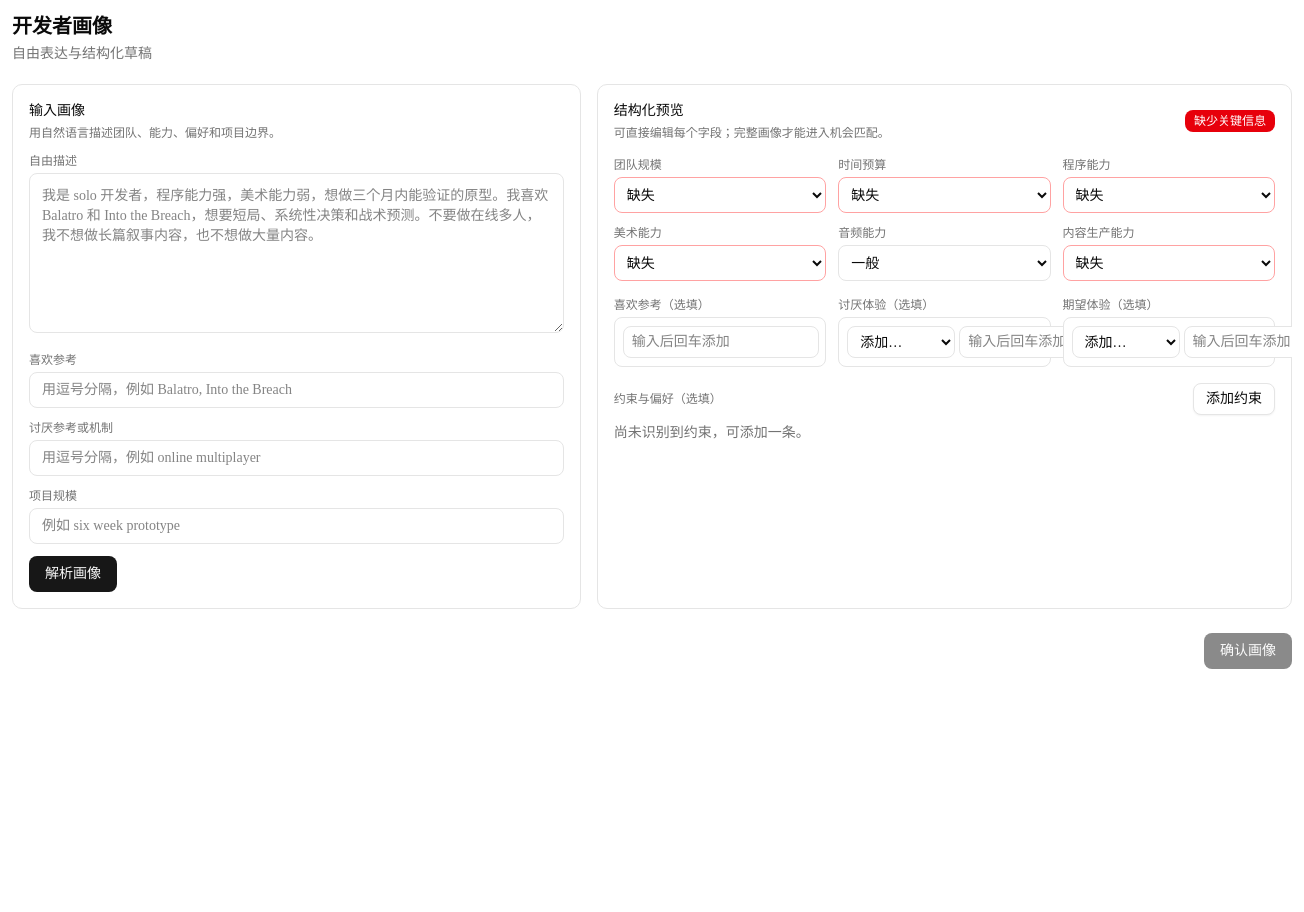
Test: ProfilePage › lets the user complete the profile by selecting fields, no free text
# Pick canonical values directly from the Chinese dropdowns.
Select "独立开发者（单人）" in the dropdown labelled "团队规模": [720, 195] box top-left (614, 177), bottom-right (826, 213)
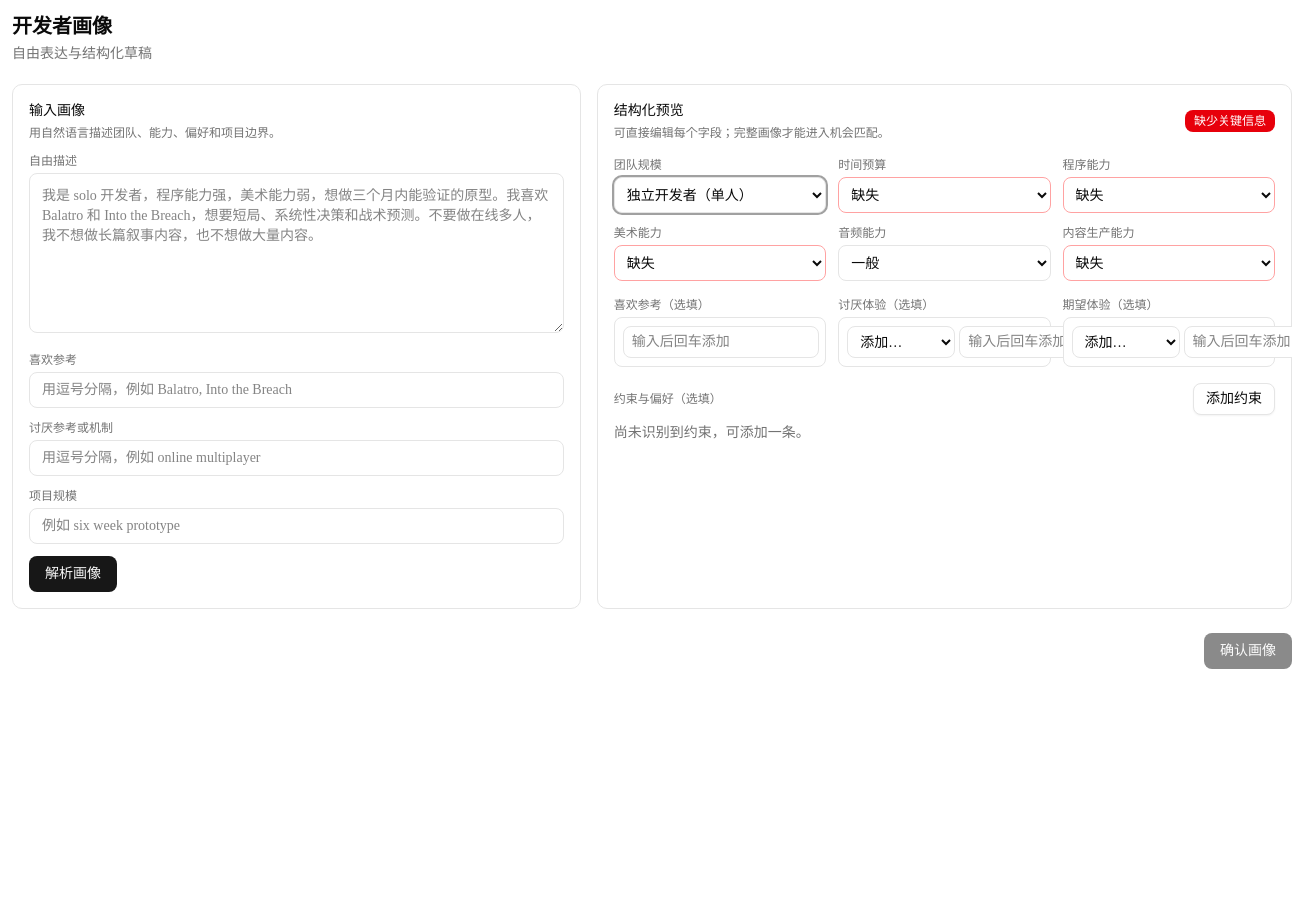
Select "三个月原型" in the dropdown labelled "时间预算": [944, 195] box top-left (838, 177), bottom-right (1051, 213)
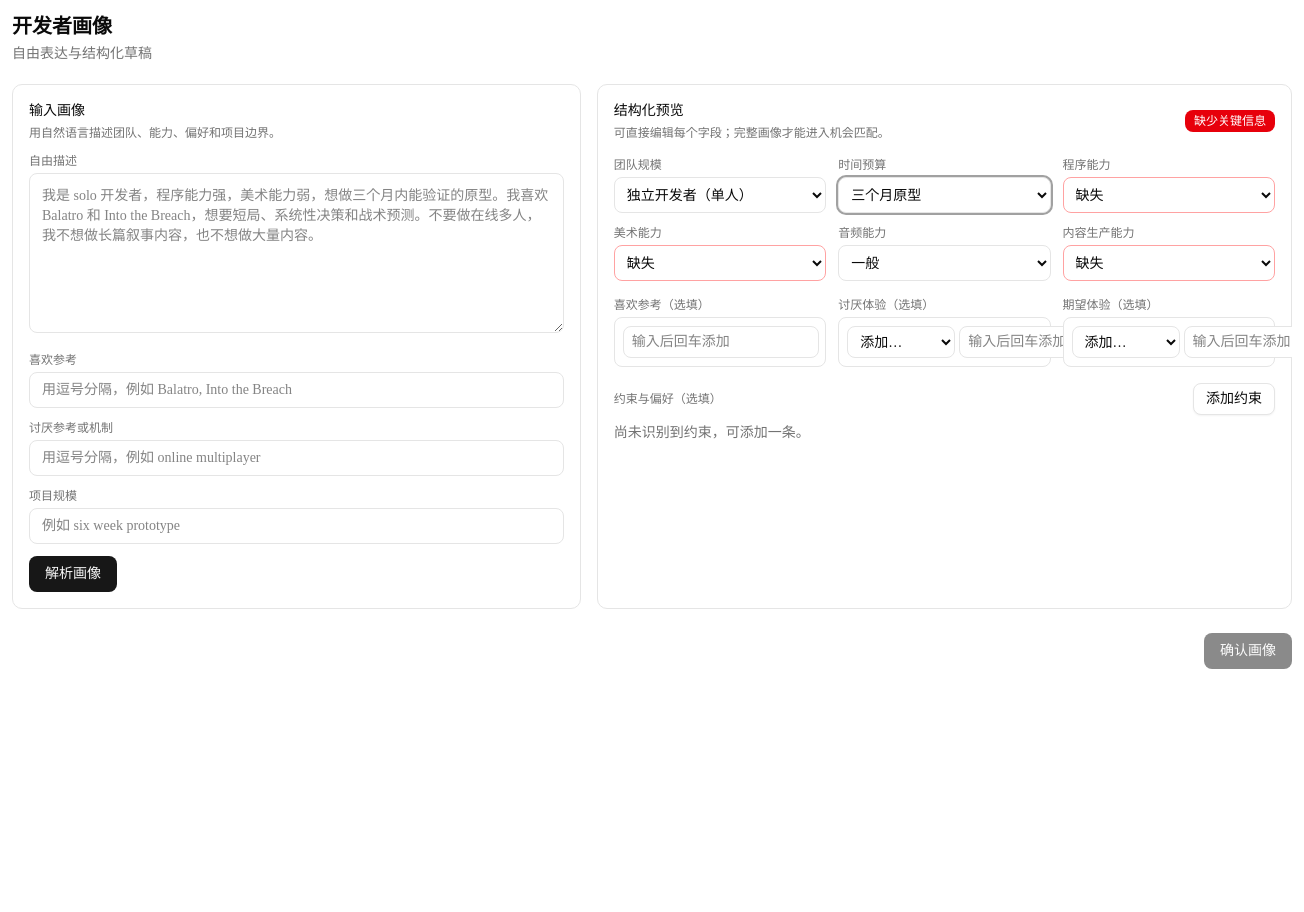
Select "强" in the dropdown labelled "程序能力": [1169, 195] box top-left (1063, 177), bottom-right (1275, 213)
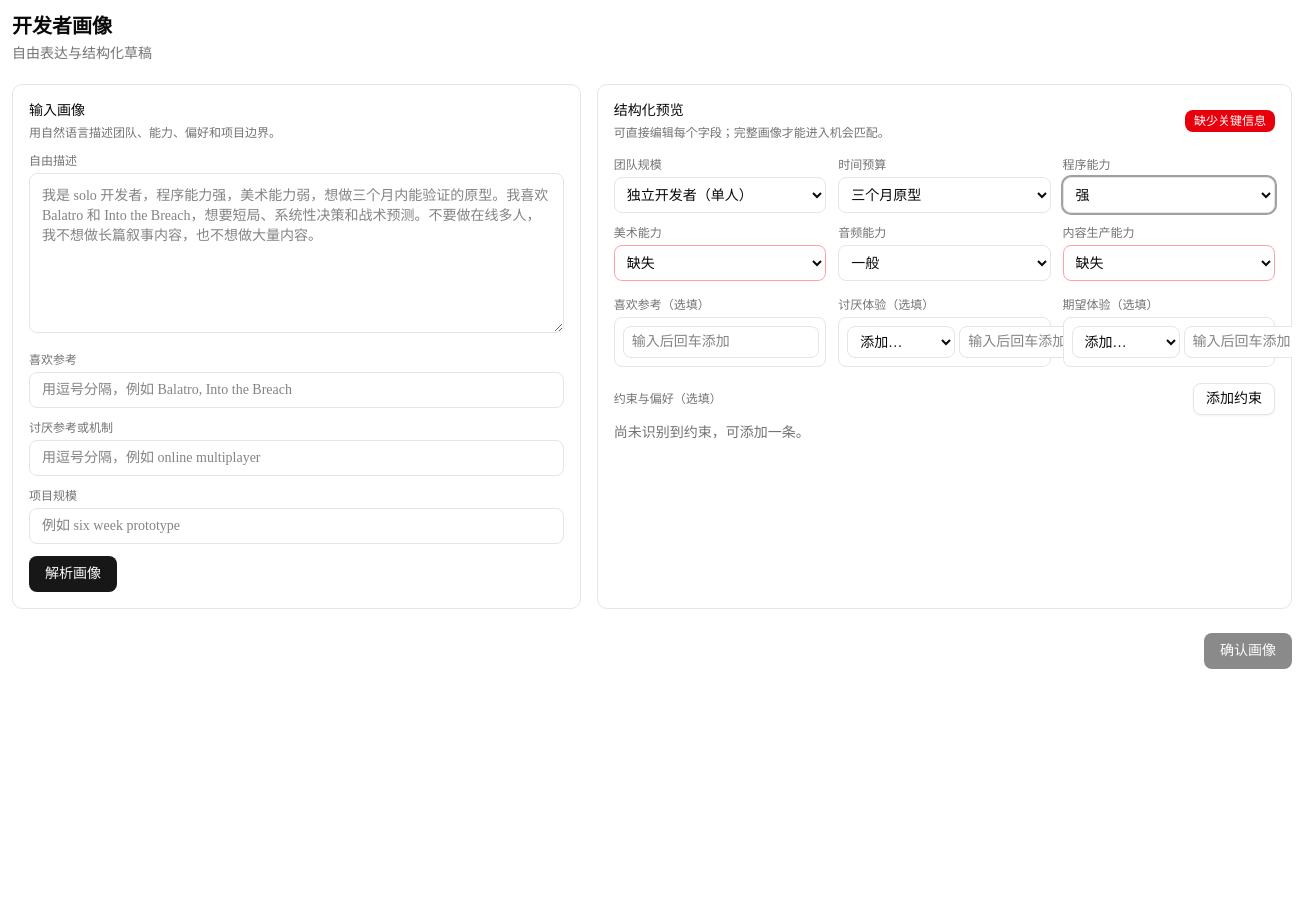
Select "弱" in the dropdown labelled "美术能力": [720, 263] box top-left (614, 245), bottom-right (826, 281)
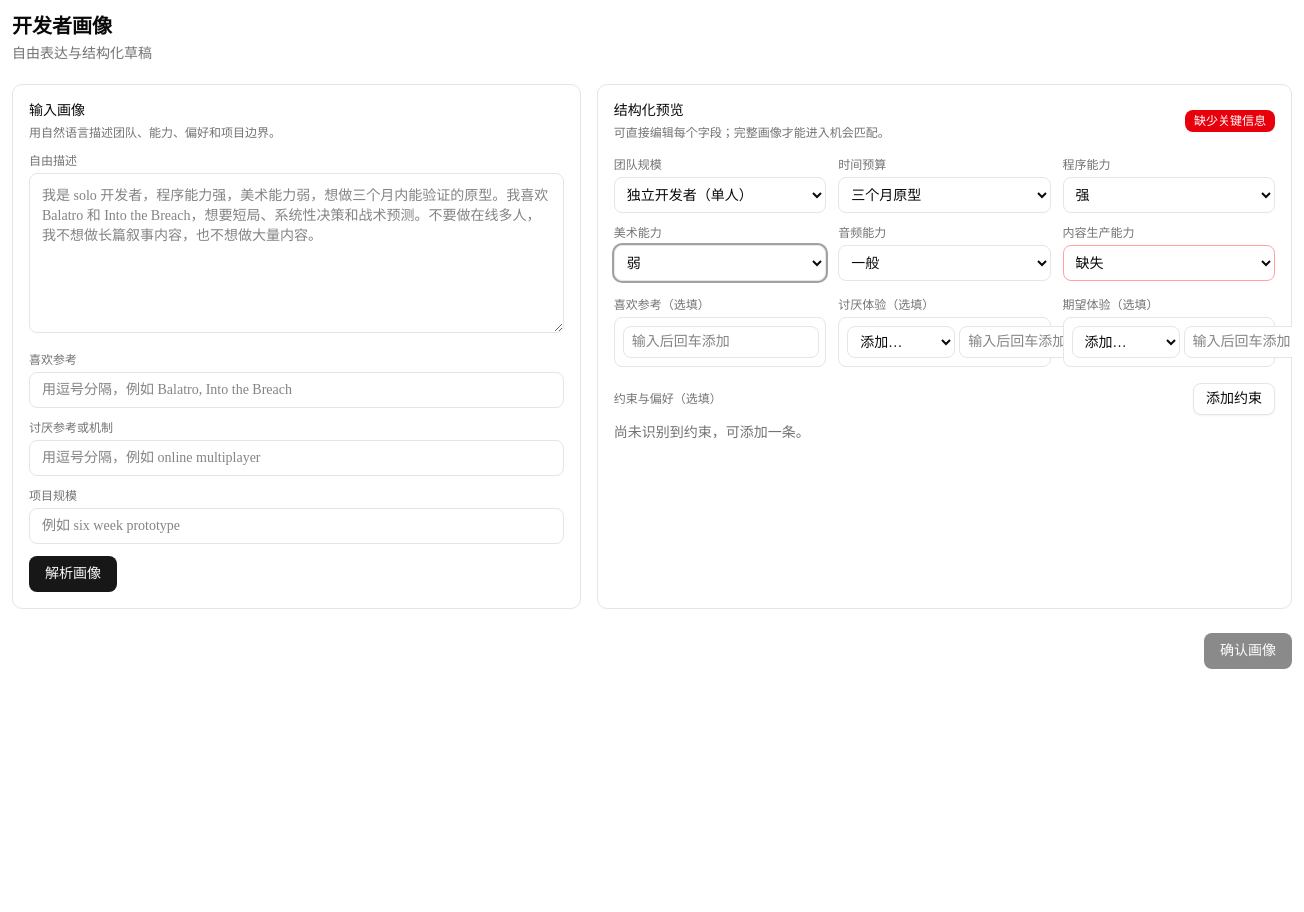
Select "有限" in the dropdown labelled "内容生产能力": [1169, 263] box top-left (1063, 245), bottom-right (1275, 281)
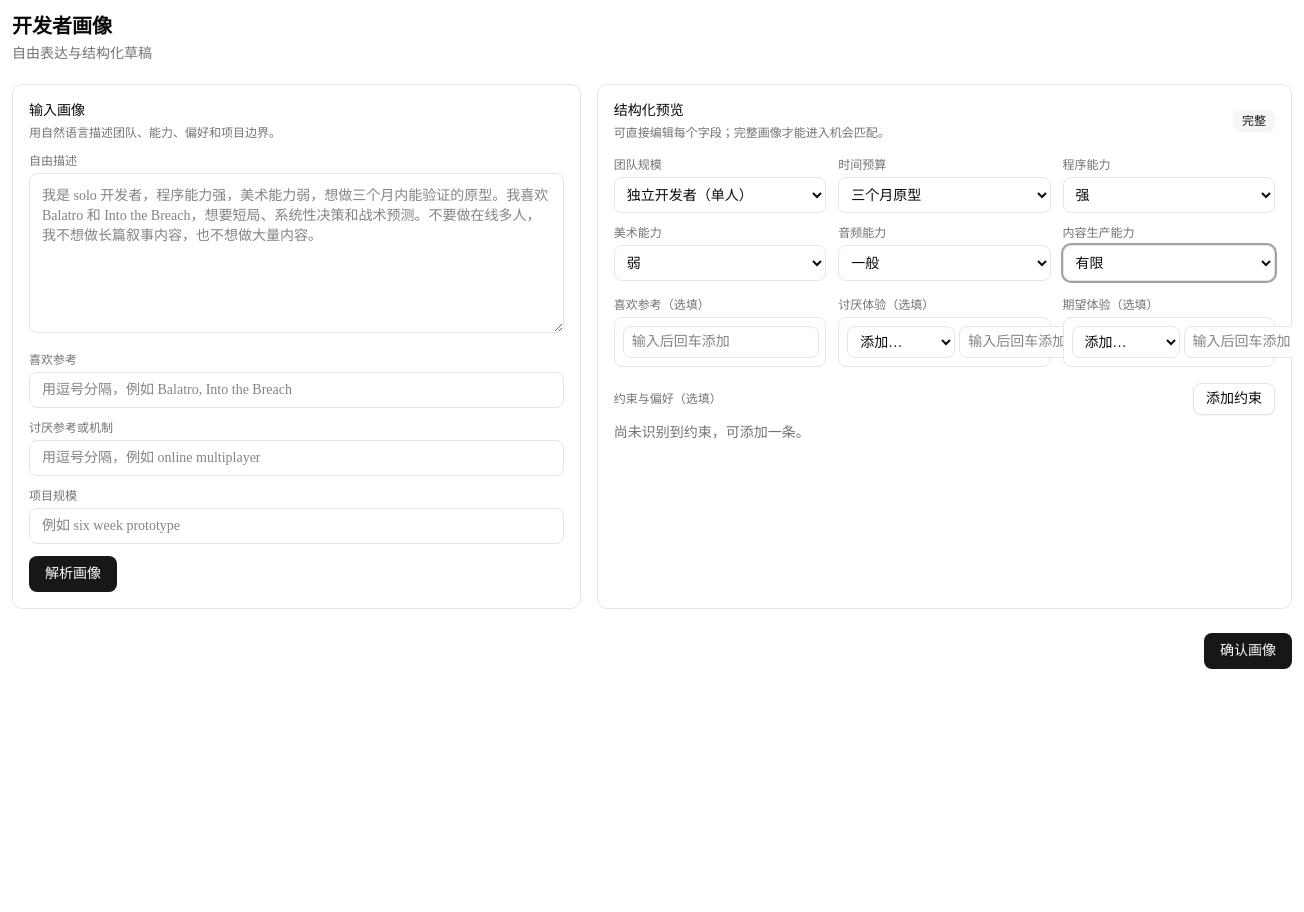
Expected: the button "确认画像" is enabled, top-left (1204, 633), bottom-right (1292, 669)
